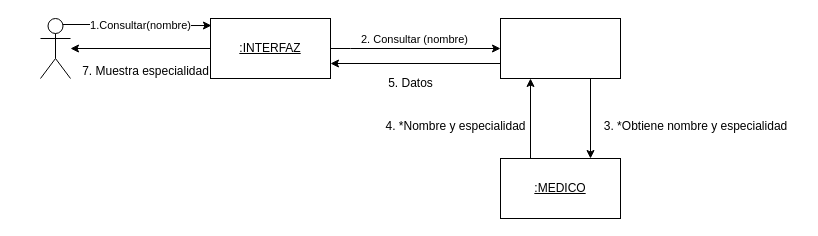
Some shapes in this 818 by 236 pixel diagram are drawn without their labels. Here are the shapes that lost their labels. From the top down, the centre of each, then its label:
At point 55,48: "SECRETARIO".
At point 560,48: ":GESTOR DE MEDICOS".
